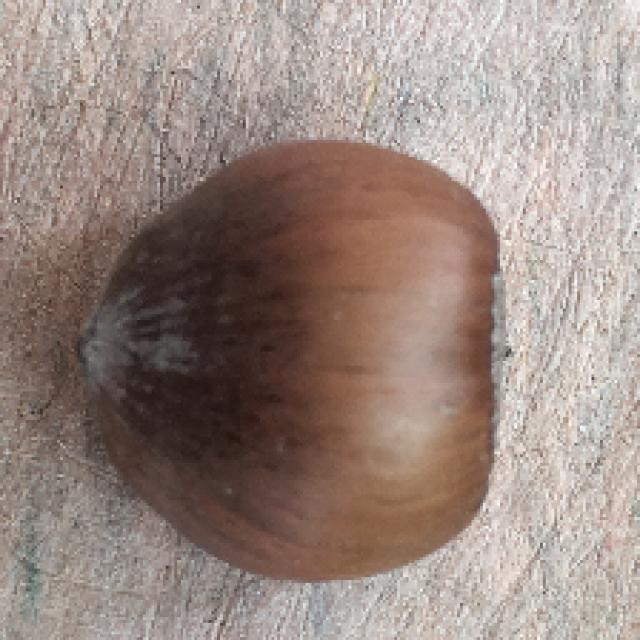damagedHazelnut: (66, 130, 513, 588)
